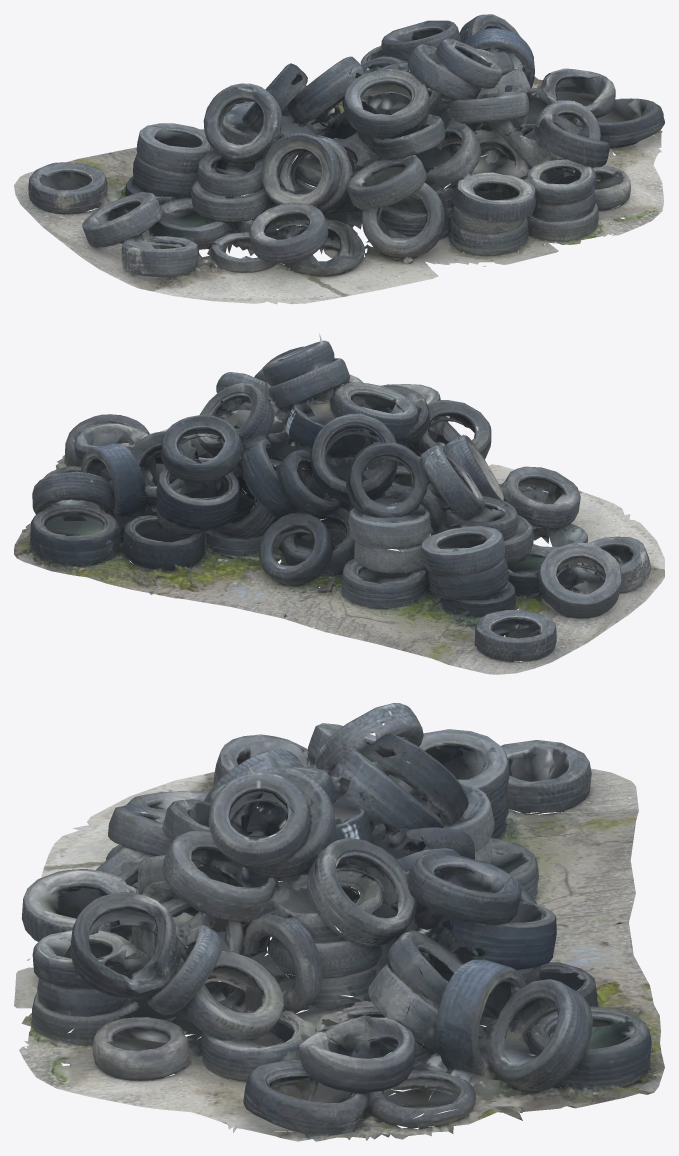
File: p_tires.glb
The picture shows the model from 3 angles, top to bottom: view 1: azimuth 30°, elevation 25°; view 2: azimuth 150°, elevation 25°; view 3: azimuth 270°, elevation 25°; orthographic projection. The views are drawn at different scales.
Parts seen in each view (by area): view 1: tires2; view 2: tires2; view 3: tires2.
Boxes of the visible parts, bbox=[...] form: tires2: bbox=[14, 14, 664, 304]; tires2: bbox=[14, 333, 664, 674]; tires2: bbox=[14, 703, 664, 1141].
Bounding box in the file's own units: 5.31 × 1.51 × 3.71.
4 materials, 4 textured.
